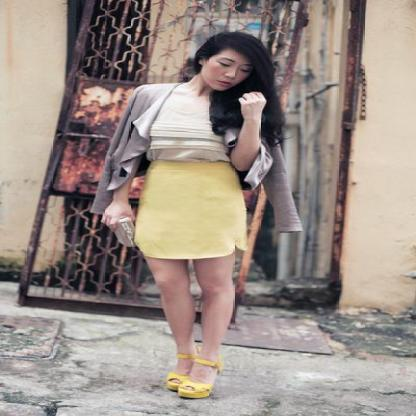jacket: (70, 83, 306, 241)
shirt: (123, 97, 237, 171)
shoe: (168, 375, 216, 400)
skirt: (135, 164, 254, 258)
